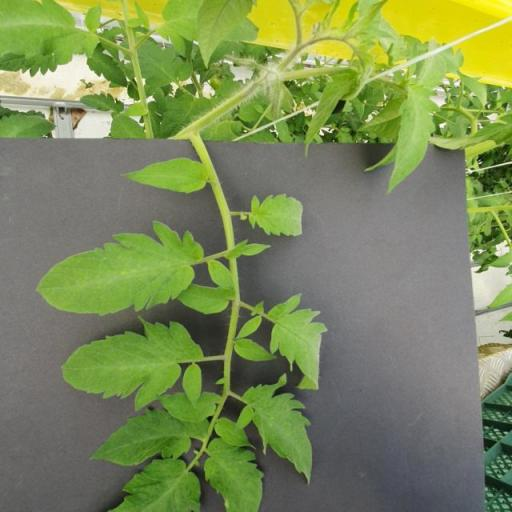Healthy: (36, 220, 204, 315), (62, 315, 204, 412), (236, 373, 314, 486), (88, 408, 210, 466), (268, 294, 330, 392), (203, 437, 263, 512), (122, 158, 208, 194), (248, 194, 304, 238), (175, 282, 236, 314)
